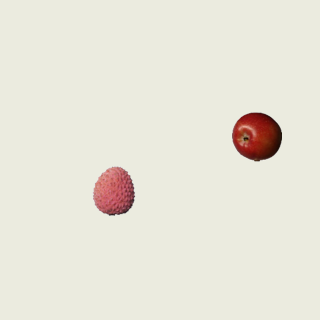Apple Braeburn: (231, 111, 281, 161)
Lychee: (88, 165, 138, 215)
